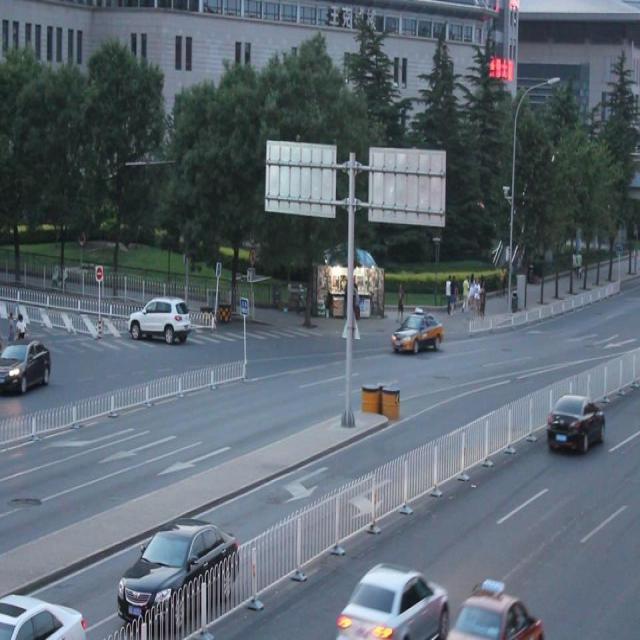car: (115, 518, 238, 620), (339, 554, 445, 640), (445, 580, 541, 640), (1, 588, 88, 640), (546, 394, 604, 449), (128, 297, 191, 343), (0, 338, 50, 391), (391, 308, 442, 356)
